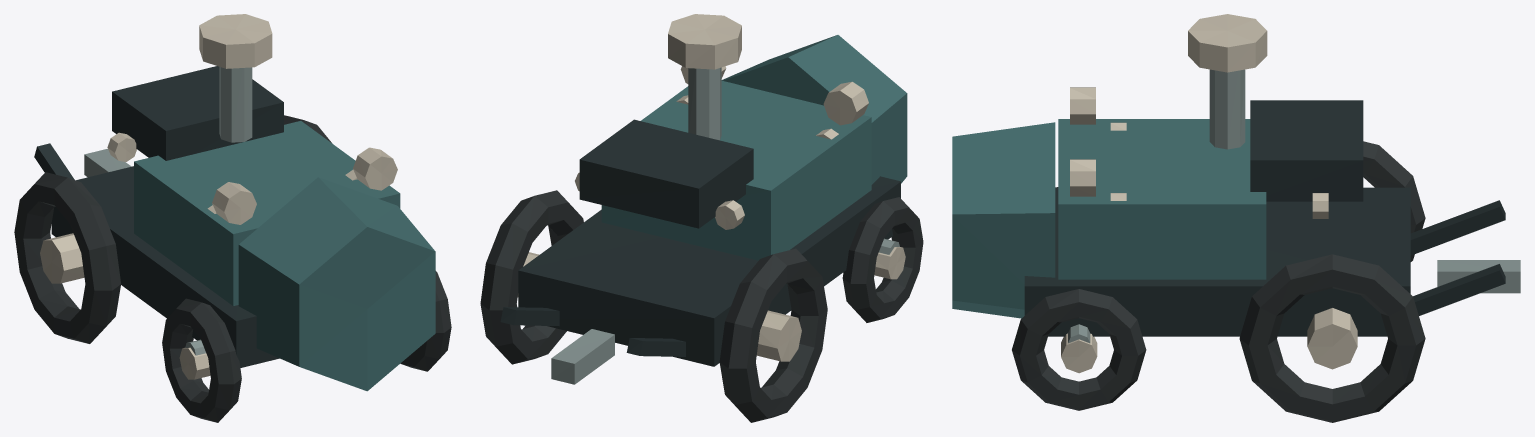
The model's file is autonomous-tractor.source.glb.
3 renders of one model, left to right at view 1: azimuth 30°, elevation 25°; view 2: azimuth 150°, elevation 25°; view 3: azimuth 270°, elevation 25°, orthographic. The views are drawn at different scales.
Parts seen in each view (by area): view 1: autonomous-tractor-sloped-sensor-nose-mesh, autonomous-tractor-compact-engine-deck-mesh, autonomous-tractor-rear-left-wheel-tire-mesh, autonomous-tractor-battery-service-panel-mesh, autonomous-tractor-low-cabless-chassis-mesh, autonomous-tractor-front-left-wheel-tire-mesh, autonomous-tractor-spinning-lidar-head-mesh, autonomous-tractor-central-lidar-mast-mesh, autonomous-tractor-front-right-wheel-tire-mesh, autonomous-tractor-rear-left-wheel-hub-mesh, autonomous-tractor-front-lidar--0.43-mesh, autonomous-tractor-front-lidar-0.43-mesh (+4 smaller); view 2: autonomous-tractor-low-cabless-chassis-mesh, autonomous-tractor-compact-engine-deck-mesh, autonomous-tractor-battery-service-panel-mesh, autonomous-tractor-rear-left-wheel-tire-mesh, autonomous-tractor-sloped-sensor-nose-mesh, autonomous-tractor-rear-right-wheel-tire-mesh, autonomous-tractor-front-left-wheel-tire-mesh, autonomous-tractor-spinning-lidar-head-mesh, autonomous-tractor-central-lidar-mast-mesh, autonomous-tractor-autonomous-drawbar-mesh, autonomous-tractor-rear-left-wheel-hub-mesh, autonomous-tractor-front-lidar--0.43-mesh (+4 smaller); view 3: autonomous-tractor-compact-engine-deck-mesh, autonomous-tractor-low-cabless-chassis-mesh, autonomous-tractor-sloped-sensor-nose-mesh, autonomous-tractor-rear-right-wheel-tire-mesh, autonomous-tractor-battery-service-panel-mesh, autonomous-tractor-front-right-wheel-tire-mesh, autonomous-tractor-spinning-lidar-head-mesh, autonomous-tractor-central-lidar-mast-mesh, autonomous-tractor-rear-right-wheel-hub-mesh, autonomous-tractor-rear-left-wheel-tire-mesh, autonomous-tractor-hitch-arm--0.38-mesh, autonomous-tractor-hitch-arm-0.38-mesh (+4 smaller).
Boxes of the visible parts, bbox=[...] form: autonomous-tractor-sloped-sensor-nose-mesh: bbox=[238, 177, 435, 391]; autonomous-tractor-compact-engine-deck-mesh: bbox=[134, 121, 400, 305]; autonomous-tractor-rear-left-wheel-tire-mesh: bbox=[14, 172, 120, 343]; autonomous-tractor-battery-service-panel-mesh: bbox=[112, 66, 283, 160]; autonomous-tractor-low-cabless-chassis-mesh: bbox=[51, 166, 279, 367]; autonomous-tractor-front-left-wheel-tire-mesh: bbox=[162, 298, 241, 422]; autonomous-tractor-spinning-lidar-head-mesh: bbox=[199, 14, 272, 68]; autonomous-tractor-central-lidar-mast-mesh: bbox=[219, 67, 252, 142]; autonomous-tractor-front-right-wheel-tire-mesh: bbox=[400, 271, 451, 371]; autonomous-tractor-rear-left-wheel-hub-mesh: bbox=[40, 233, 84, 283]; autonomous-tractor-front-lidar--0.43-mesh: bbox=[212, 182, 256, 224]; autonomous-tractor-front-lidar-0.43-mesh: bbox=[353, 147, 397, 190]; autonomous-tractor-low-cabless-chassis-mesh: bbox=[518, 176, 900, 366]; autonomous-tractor-compact-engine-deck-mesh: bbox=[601, 80, 871, 260]; autonomous-tractor-battery-service-panel-mesh: bbox=[579, 119, 753, 228]; autonomous-tractor-rear-left-wheel-tire-mesh: bbox=[719, 248, 827, 422]; autonomous-tractor-sloped-sensor-nose-mesh: bbox=[721, 35, 907, 184]; autonomous-tractor-rear-right-wheel-tire-mesh: bbox=[480, 190, 583, 364]; autonomous-tractor-front-left-wheel-tire-mesh: bbox=[842, 197, 923, 322]; autonomous-tractor-spinning-lidar-head-mesh: bbox=[668, 14, 741, 69]; autonomous-tractor-central-lidar-mast-mesh: bbox=[688, 67, 721, 140]; autonomous-tractor-autonomous-drawbar-mesh: bbox=[551, 329, 614, 384]; autonomous-tractor-rear-left-wheel-hub-mesh: bbox=[756, 310, 801, 361]; autonomous-tractor-front-lidar--0.43-mesh: bbox=[823, 81, 868, 125]; autonomous-tractor-compact-engine-deck-mesh: bbox=[1058, 119, 1266, 279]; autonomous-tractor-low-cabless-chassis-mesh: bbox=[1024, 187, 1410, 336]; autonomous-tractor-sloped-sensor-nose-mesh: bbox=[952, 122, 1055, 318]; autonomous-tractor-rear-right-wheel-tire-mesh: bbox=[1239, 254, 1425, 422]; autonomous-tractor-battery-service-panel-mesh: bbox=[1250, 100, 1363, 201]; autonomous-tractor-front-right-wheel-tire-mesh: bbox=[1012, 289, 1146, 410]; autonomous-tractor-spinning-lidar-head-mesh: bbox=[1188, 14, 1267, 72]; autonomous-tractor-central-lidar-mast-mesh: bbox=[1209, 69, 1245, 149]; autonomous-tractor-rear-right-wheel-hub-mesh: bbox=[1307, 308, 1357, 369]; autonomous-tractor-rear-left-wheel-tire-mesh: bbox=[1363, 141, 1425, 261]; autonomous-tractor-hitch-arm--0.38-mesh: bbox=[1410, 200, 1505, 255]; autonomous-tractor-hitch-arm-0.38-mesh: bbox=[1413, 264, 1505, 315].
Bounding box in the file's own units: 1.63 × 1.85 × 2.87.
